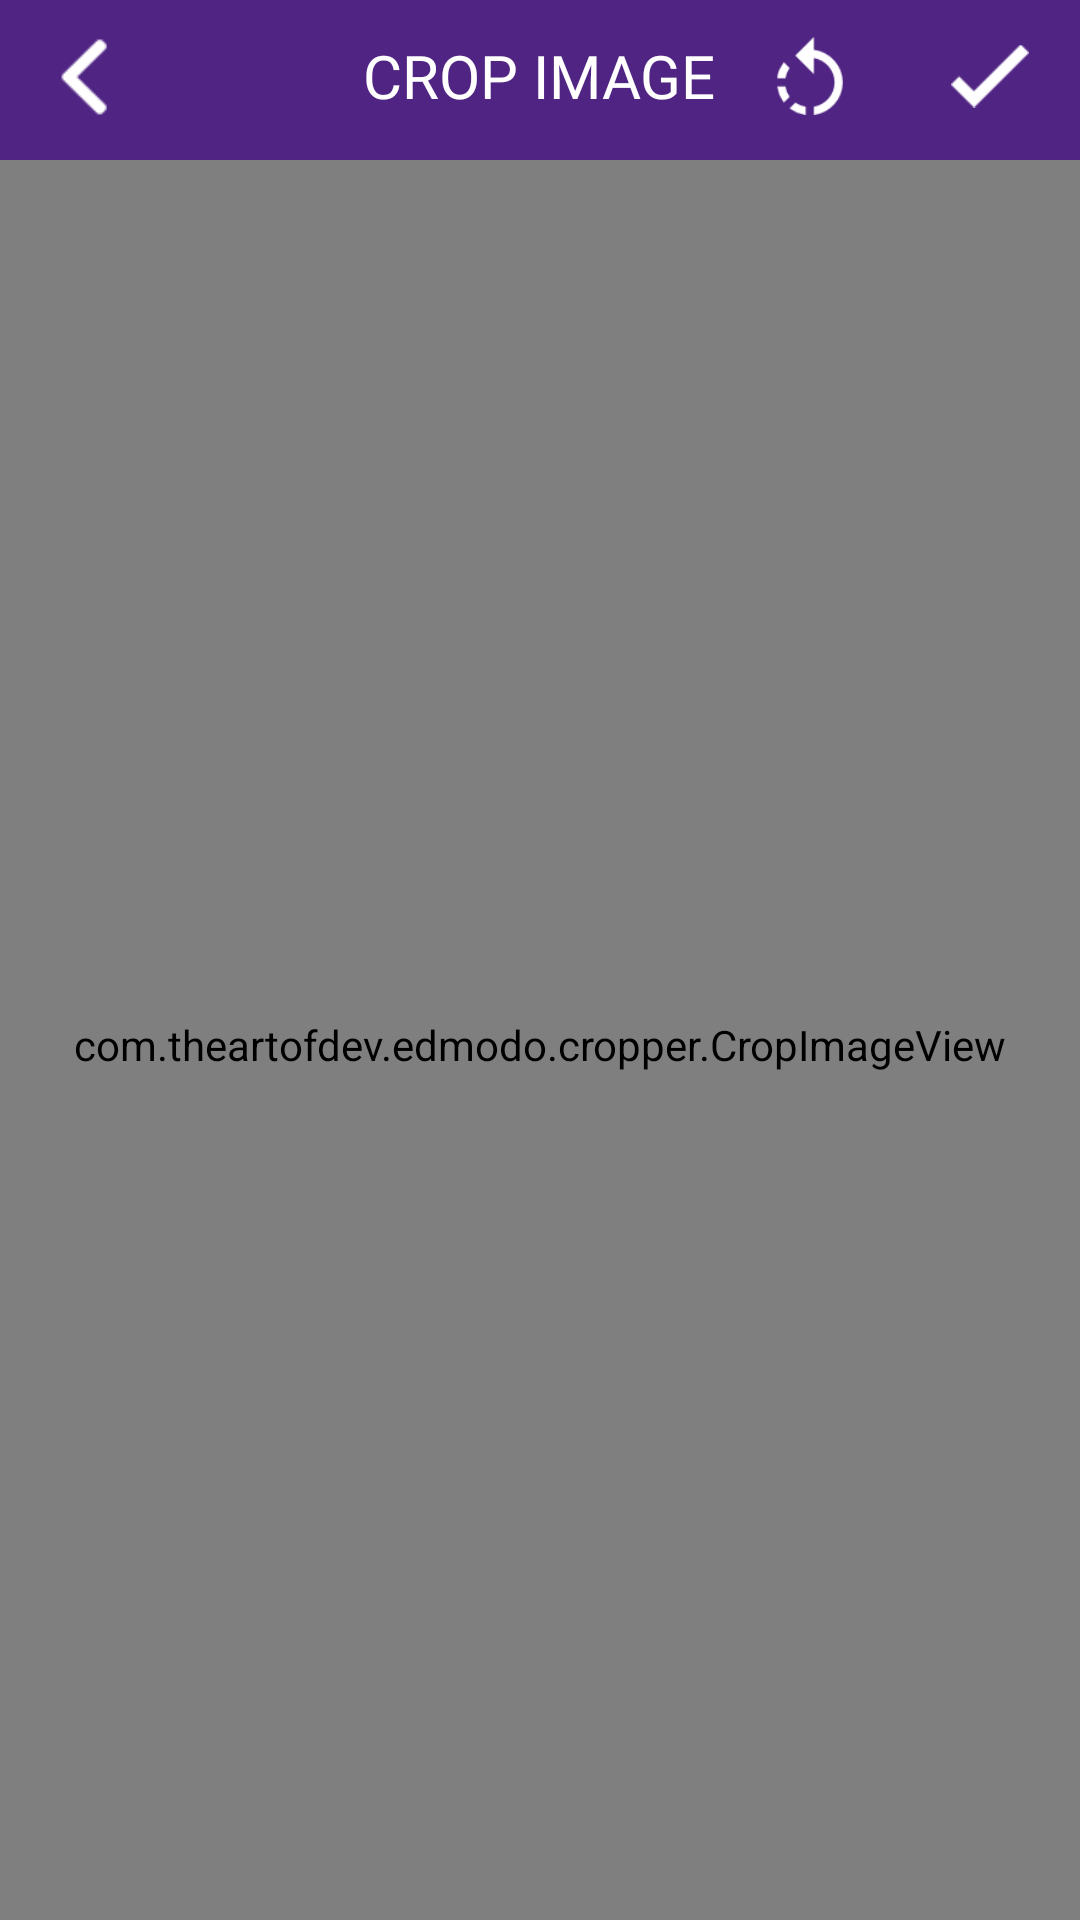

Icon click points for this 1080px x 1920px phone screenshot, format (x=x, y=y):
back: (x=84, y=77)
done activity: (x=990, y=76)
rotateimage unpressed: (x=810, y=76)
